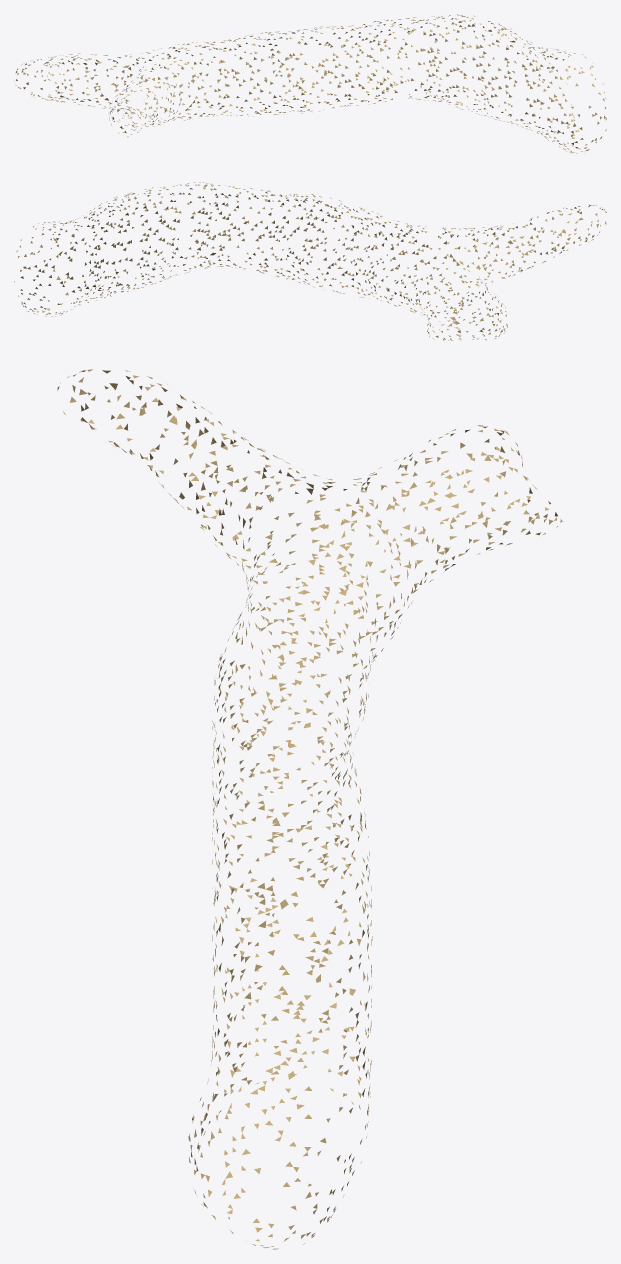
Rendered from morph_007.glb.
The picture shows the model from 3 angles, top to bottom: view 1: azimuth 30°, elevation 25°; view 2: azimuth 150°, elevation 25°; view 3: azimuth 270°, elevation 25°; orthographic projection. The views are drawn at different scales.
Bounding box in the file's own units: 112 × 40.7 × 47.07.
